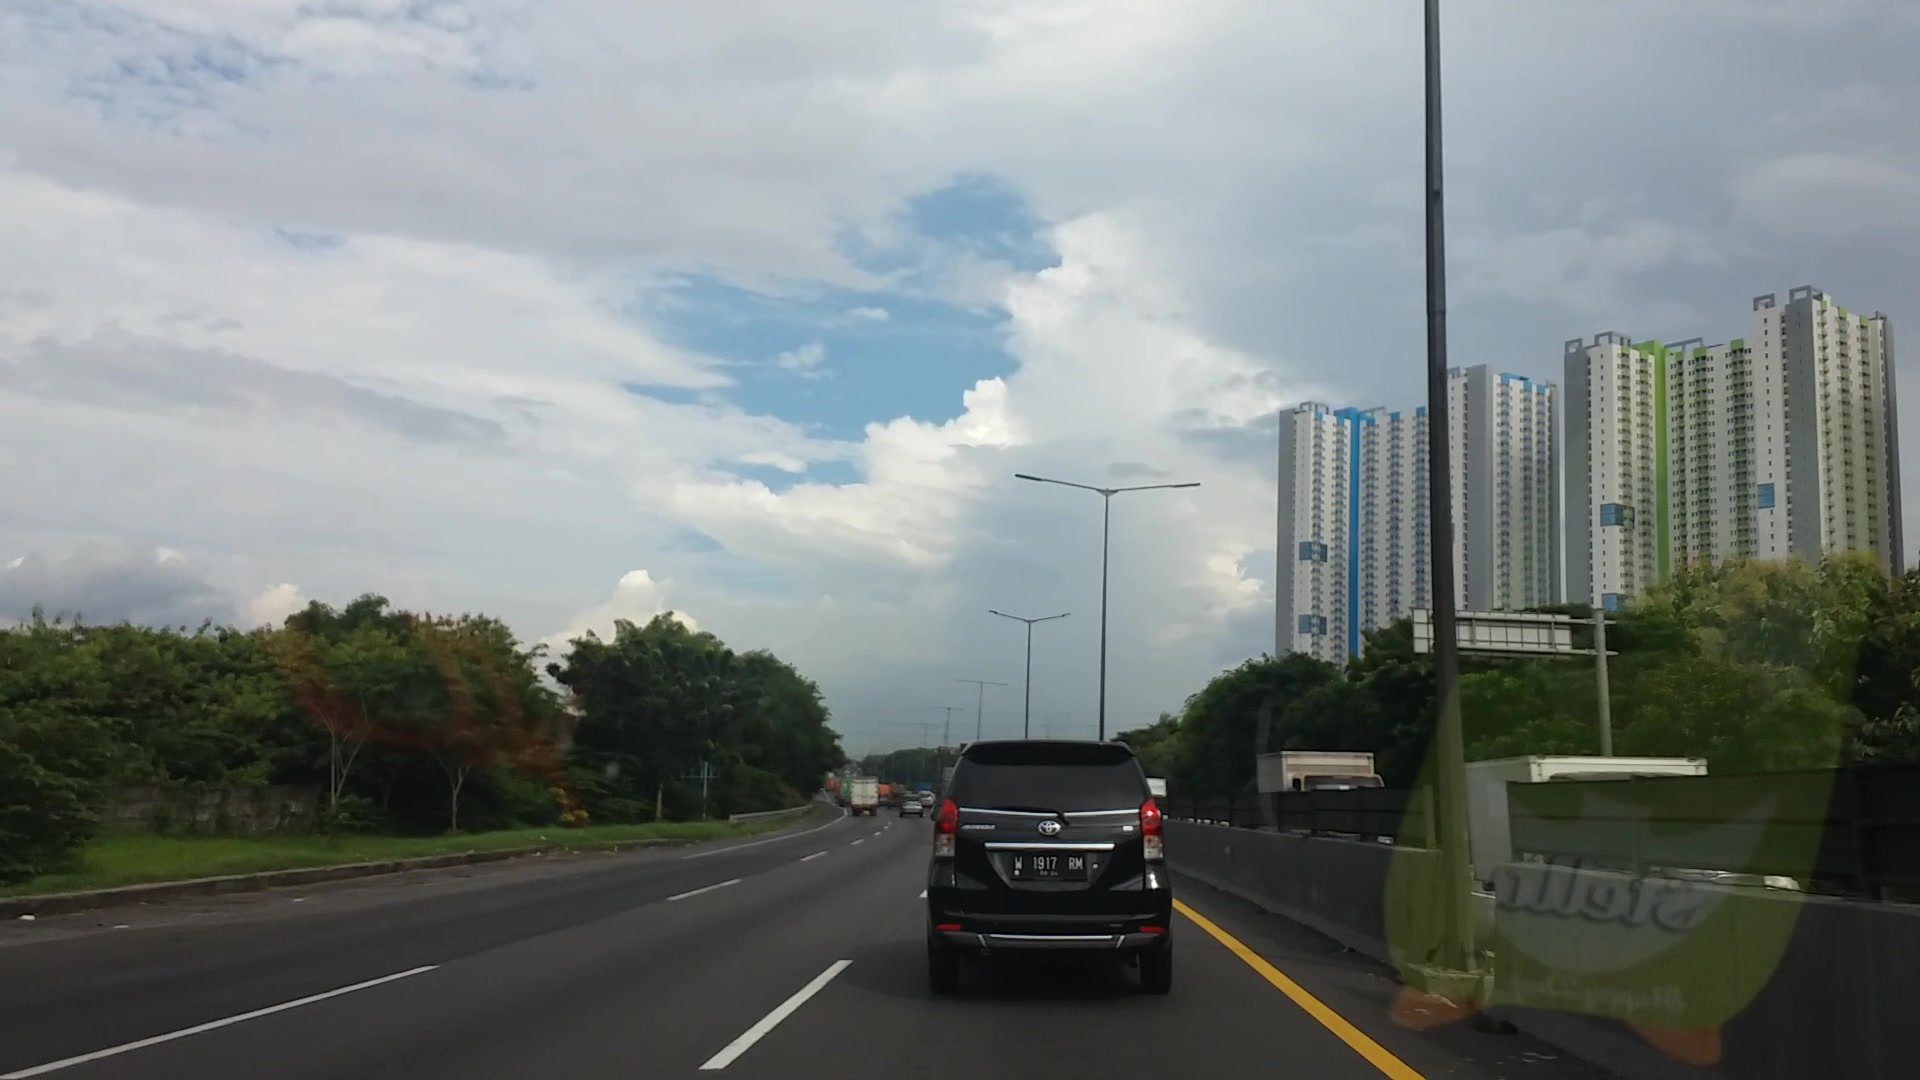plate_positive: (1011, 852, 1087, 877)
